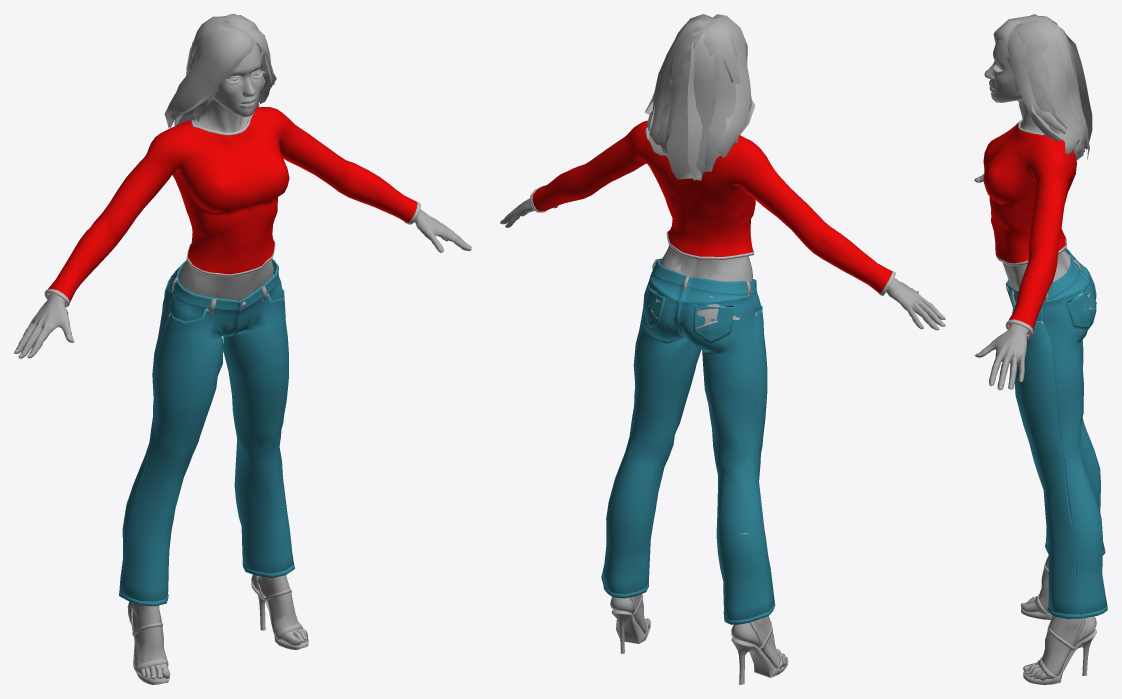
The model's file is linear_workflow.fbx.
The picture shows the model from 3 angles, left to right: view 1: azimuth 30°, elevation 25°; view 2: azimuth 150°, elevation 25°; view 3: azimuth 270°, elevation 25°; orthographic projection. The views are drawn at different scales.
Parts seen in each view (by area): view 1: polySurface144, polySurface154, polySurface87, polySurface110; view 2: polySurface144, polySurface154, polySurface87, polySurface106, polySurface107, polySurface110, polySurface104, polySurface124, polySurface108, polySurface134, polySurface125; view 3: polySurface144, polySurface154, polySurface87, polySurface104, polySurface116, polySurface121, polySurface124, polySurface117, polySurface108, polySurface125, polySurface115, polySurface110 (+2 smaller).
Part boxes in pixels (x1=…): polySurface144: x1=119, y1=259, x2=294, y2=606; polySurface154: x1=48, y1=107, x2=417, y2=303; polySurface87: x1=14, y1=21, x2=471, y2=679; polySurface110: x1=164, y1=25, x2=254, y2=128; polySurface144: x1=601, y1=258, x2=775, y2=624; polySurface154: x1=532, y1=120, x2=892, y2=293; polySurface87: x1=500, y1=198, x2=945, y2=668; polySurface106: x1=666, y1=33, x2=715, y2=180; polySurface107: x1=692, y1=23, x2=740, y2=172; polySurface110: x1=713, y1=14, x2=751, y2=157; polySurface104: x1=649, y1=17, x2=711, y2=144; polySurface124: x1=665, y1=26, x2=703, y2=150; polySurface108: x1=687, y1=33, x2=705, y2=180; polySurface134: x1=731, y1=637, x2=788, y2=684; polySurface125: x1=611, y1=610, x2=650, y2=653; polySurface144: x1=1006, y1=248, x2=1107, y2=618; polySurface154: x1=983, y1=122, x2=1076, y2=334; polySurface87: x1=974, y1=39, x2=1096, y2=680; polySurface104: x1=1021, y1=20, x2=1085, y2=145; polySurface116: x1=1008, y1=21, x2=1067, y2=129; polySurface121: x1=1006, y1=32, x2=1066, y2=134; polySurface124: x1=1045, y1=21, x2=1087, y2=141; polySurface117: x1=1003, y1=27, x2=1061, y2=141; polySurface108: x1=1052, y1=21, x2=1092, y2=149; polySurface125: x1=1023, y1=628, x2=1096, y2=684; polySurface115: x1=1031, y1=103, x2=1077, y2=154; polySurface110: x1=993, y1=16, x2=1027, y2=41.
Size of the model in its own units: 132 by 180 by 34.68.
